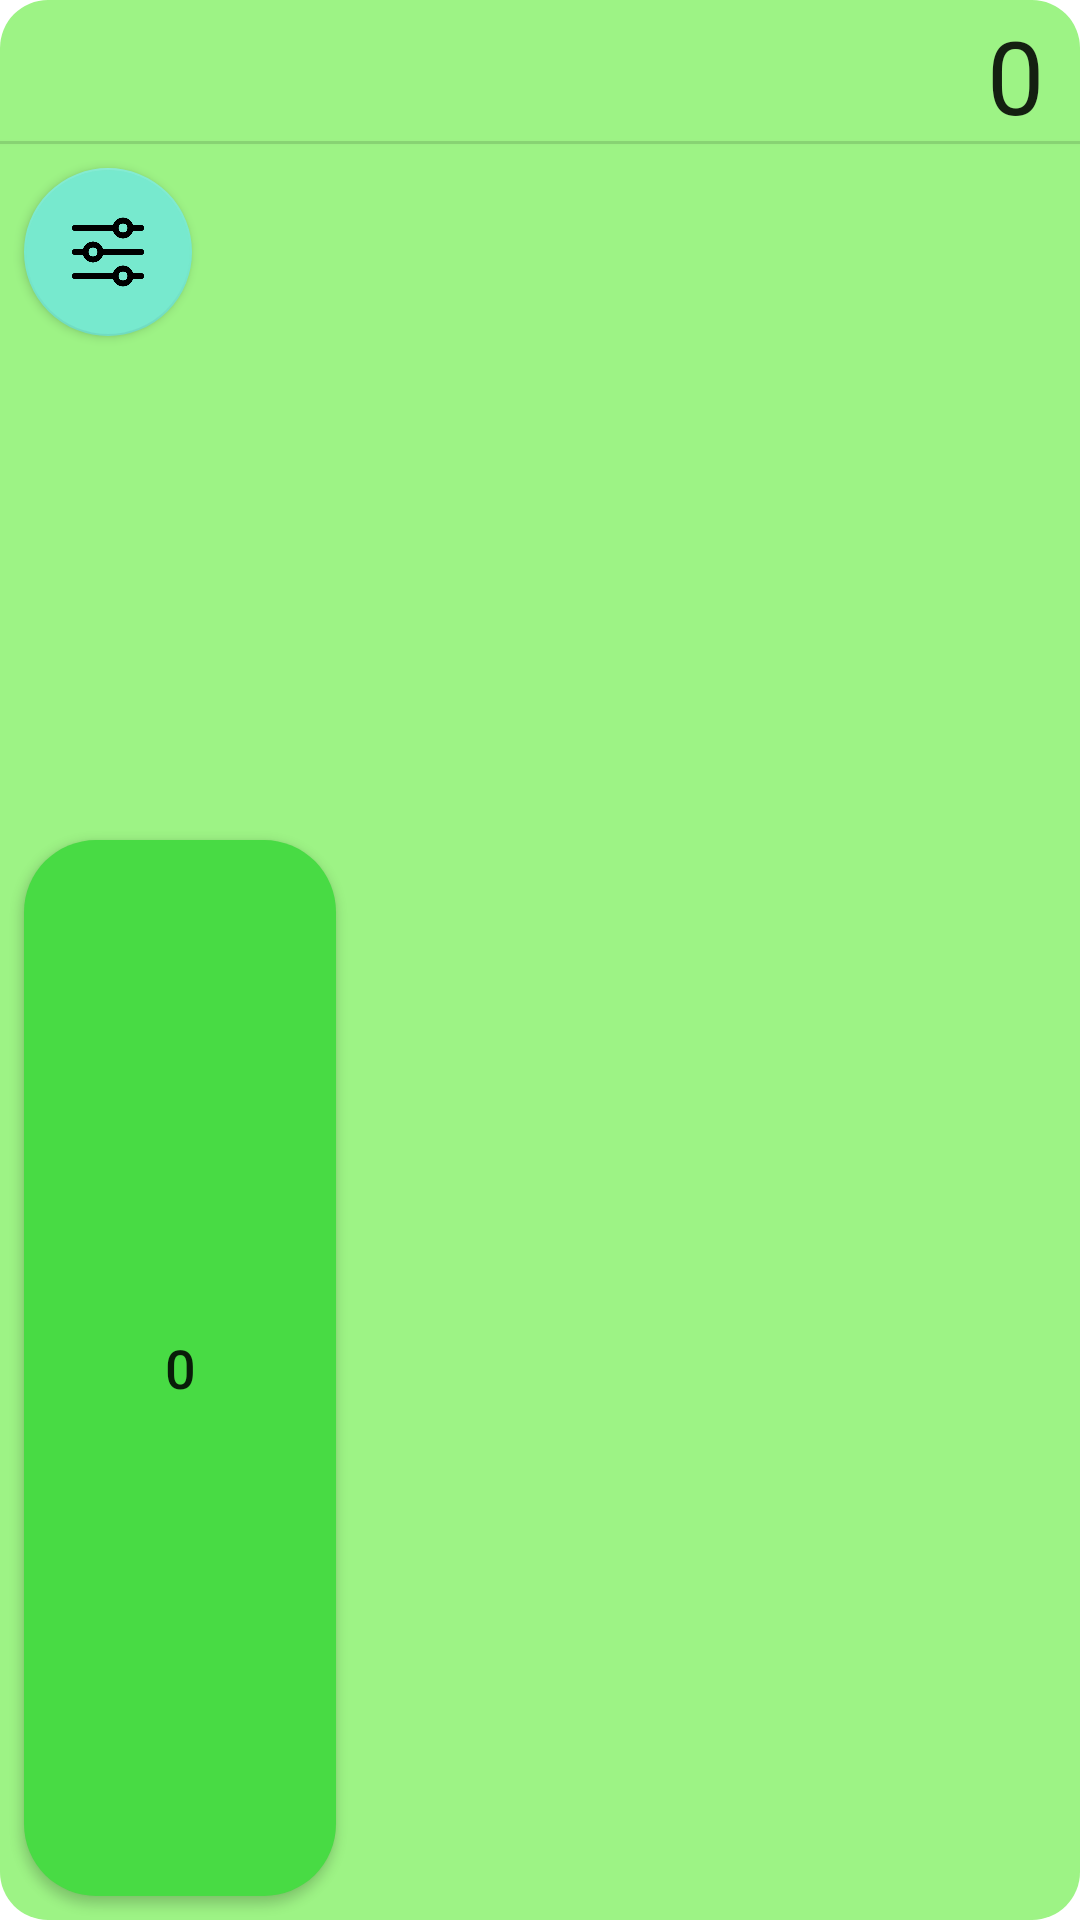

Icons on this 1080×1920 Android screen, each with the point to tap as (x=x, y=y):
settings: (x=108, y=252)
